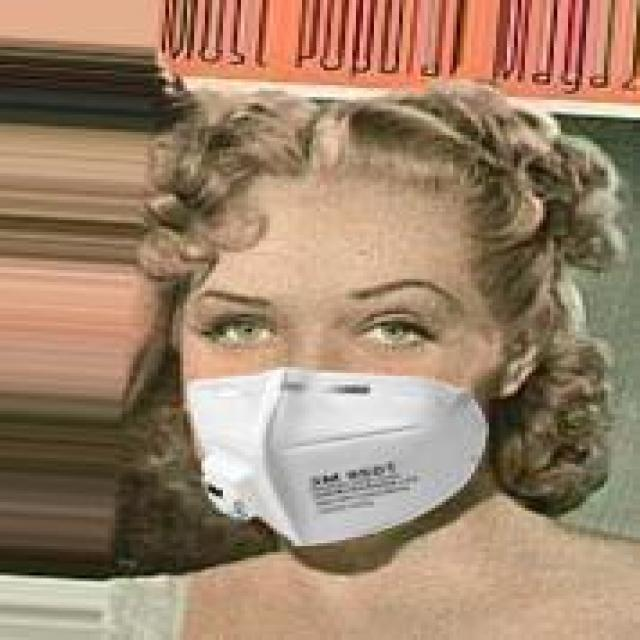mask: (76, 32, 611, 549)
